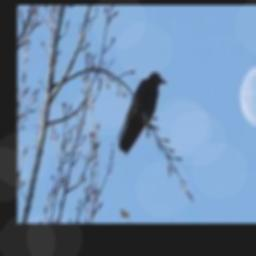Crow: (117, 71, 167, 156)
